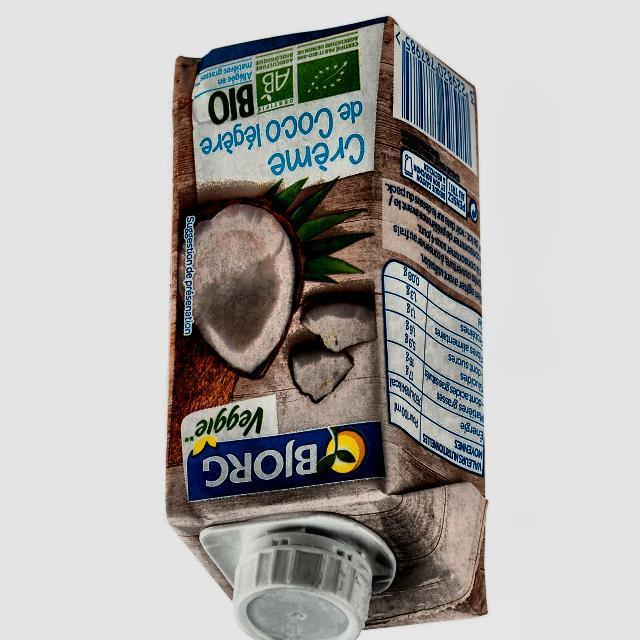cardboard: (165, 16, 488, 636)
